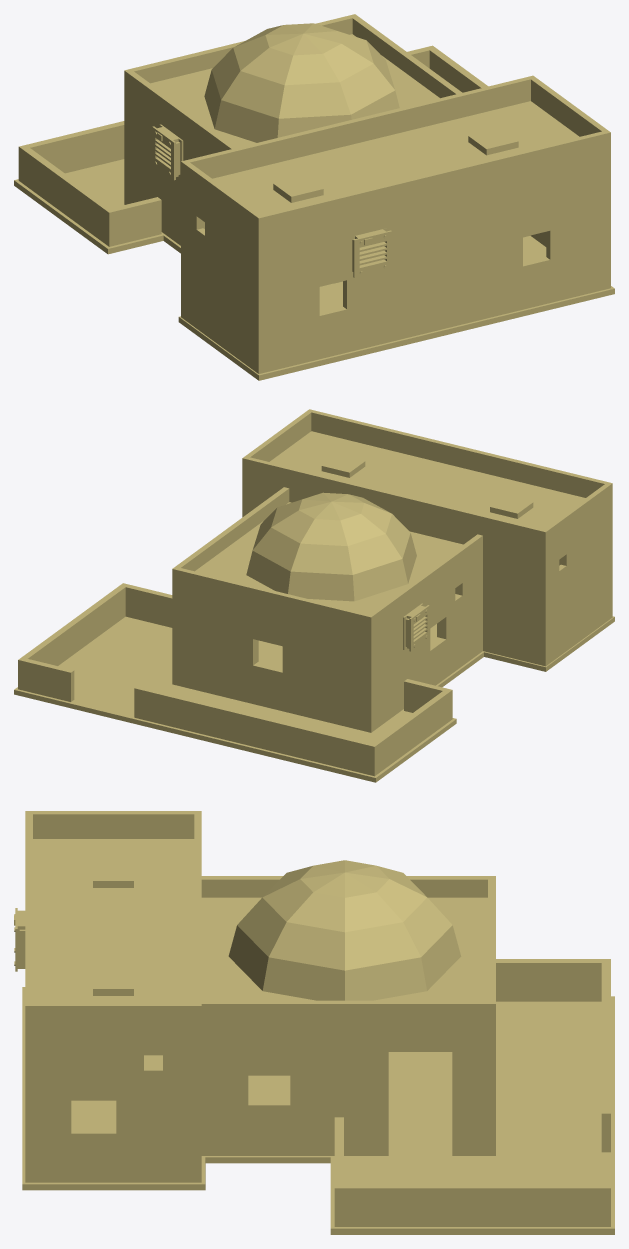
The model's file is DesertBuilding7.fbx.
The picture shows the model from 3 angles, top to bottom: view 1: azimuth 30°, elevation 25°; view 2: azimuth 150°, elevation 25°; view 3: azimuth 270°, elevation 25°; orthographic projection. The views are drawn at different scales.
Parts seen in each view (by area): view 1: Cube.013, Cube.014, Sphere.006; view 2: Cube.013, Cube.014, Sphere.006; view 3: Cube.013, Cube.014, Sphere.006.
Part boxes in pixels (x1=…): Cube.013: x1=124, y1=14, x2=610, y2=373; Cube.014: x1=14, y1=45, x2=614, y2=380; Sphere.006: x1=204, y1=23, x2=399, y2=142; Cube.013: x1=172, y1=409, x2=612, y2=732; Cube.014: x1=14, y1=583, x2=614, y2=782; Sphere.006: x1=246, y1=492, x2=416, y2=601; Cube.013: x1=14, y1=811, x2=495, y2=1182; Cube.014: x1=22, y1=959, x2=614, y2=1234; Sphere.006: x1=228, y1=860, x2=461, y2=1000.
Bounding box in the file's own units: 1249 × 540 × 1313.
